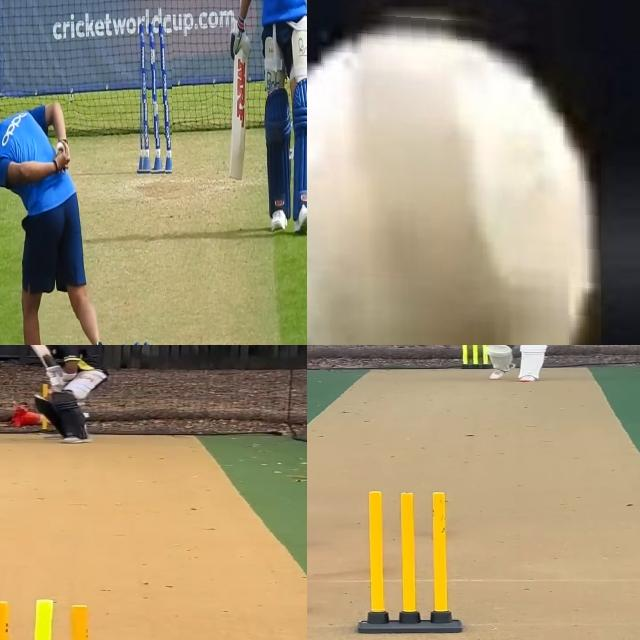Cricket ball: (307, 6, 601, 345)
Stumps: (362, 491, 459, 634), (138, 18, 172, 174), (460, 345, 489, 368)
